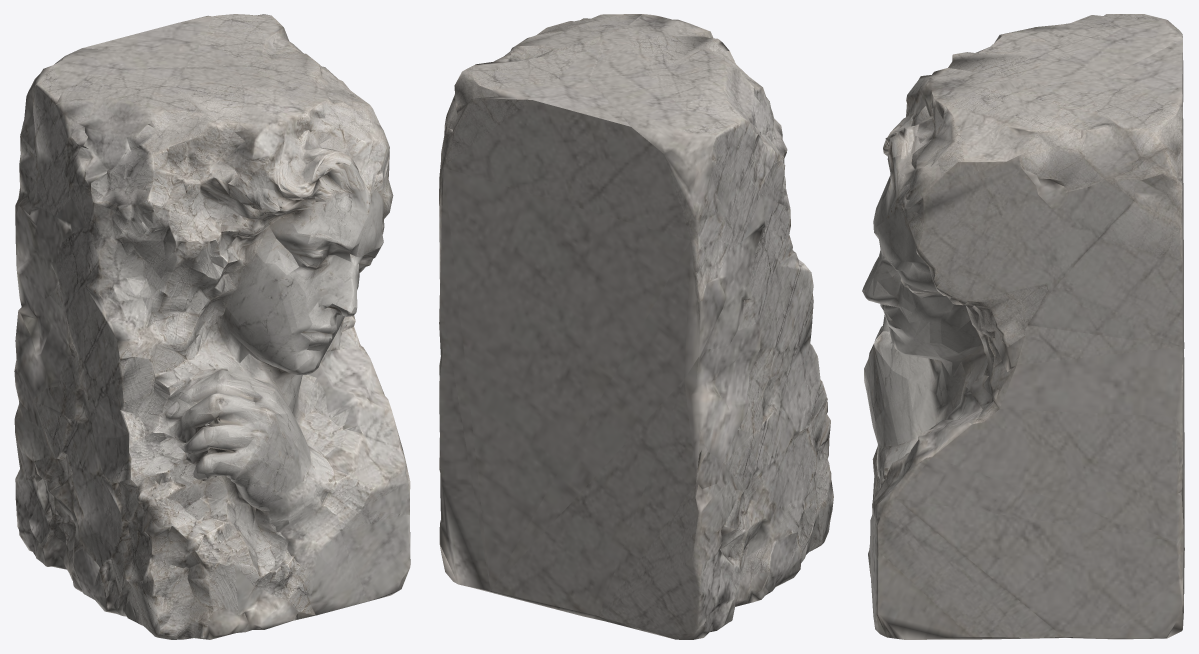
File: marble-emergence.glb
The picture shows the model from 3 angles, left to right: view 1: azimuth 30°, elevation 25°; view 2: azimuth 150°, elevation 25°; view 3: azimuth 270°, elevation 25°; orthographic projection. The views are drawn at different scales.
Parts seen in each view (by area): view 1: marble-emergence; view 2: marble-emergence; view 3: marble-emergence.
Part boxes in pixels (x1,y1,x2,y2): marble-emergence: (14,14,410,639); marble-emergence: (439,14,833,639); marble-emergence: (862,14,1184,639).
Bounding box in the file's own units: 1.05 × 1.9 × 1.08.
1 material, 1 textured.
